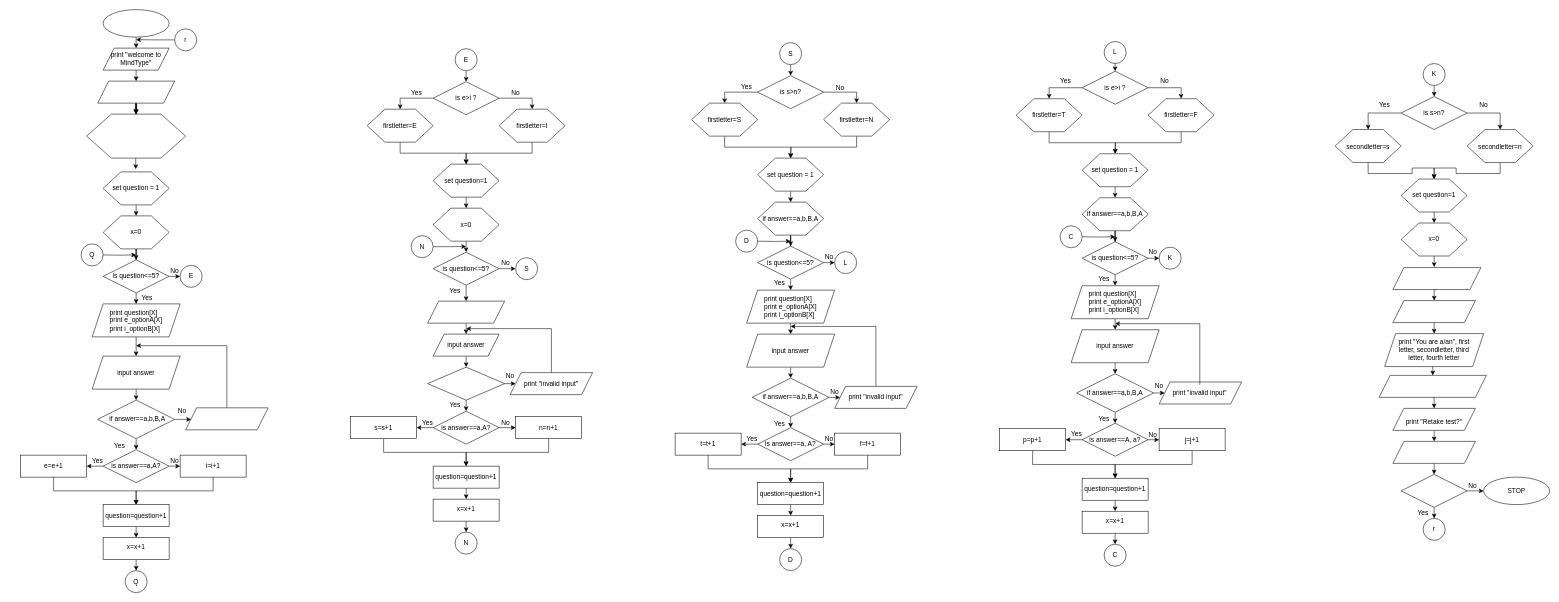
This 1559x602 diagram has some shape labels left out. The shapes that lost their labels are listed below. From the top down, each one's box as (x1, y1, x2, y2) in pixels, then its label:
(103, 9, 169, 37): START
(97, 81, 175, 103): print instructions & purpose of test
(86, 114, 186, 158): initialize all scores E=0 I=0 S=0 N=0 T=0 F=0 J=0 P=0
(1392, 267, 1481, 290): print "Thanks for taking the time the test!"
(427, 301, 505, 323): print question[X] print s_option[X] print n_option[X]
(1392, 300, 1475, 323): print "Calculating results.."
(427, 367, 505, 400): is answer==a,b,B,A ?
(1379, 375, 1486, 397): print description_for_personality_type
(185, 407, 268, 430): print "Invalid input."
(1392, 441, 1475, 463): input response
(1401, 474, 1467, 507): is response=="Yes" ?
